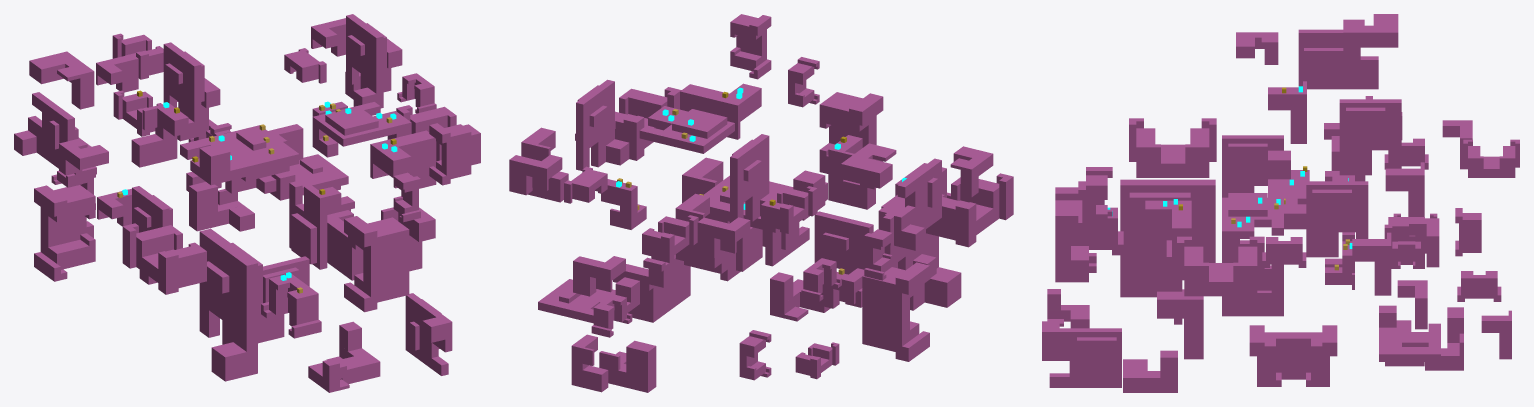
The model's file is Moving-Geometry-4.glb.
3 views of the same model, side by side, from view 1: azimuth 30°, elevation 25°; view 2: azimuth 150°, elevation 25°; view 3: azimuth 270°, elevation 25° (orthographic). The views are drawn at different scales.
Visible parts, largest first — view 1: Medium Shape.006, Hard Shape.012, Hard Shape.014, Medium Shape, Hard Shape.008, Medium Shape.001, Medium Shape.004, Medium Shape.005, Medium Shape.007, Medium Shape.003, Easy Shape.008, Medium Shape.008 (+28 smaller); view 2: Hard Shape.014, Hard Shape.008, Medium Shape.004, Medium Shape.008, Medium Shape.005, Hard Shape.012, Medium Shape.003, Medium Shape.009, Hard Shape.010, Easy Shape.008, Medium Shape.010, Hard Shape.017 (+30 smaller); view 3: Medium Shape.006, Medium Shape.007, Hard Shape.017, Medium Shape.005, Medium Shape.004, Hard Shape.010, Hard Shape.008, Medium Shape.008, Hard Shape.012, Medium Shape.002, Medium Shape.010, Medium Shape.003 (+28 smaller).
Boxes of the visible parts, x1,y1,x2,y2 form: Medium Shape.006: [199, 228, 262, 381]; Hard Shape.012: [344, 216, 409, 312]; Hard Shape.014: [34, 185, 95, 281]; Medium Shape: [180, 125, 299, 185]; Hard Shape.008: [122, 223, 206, 294]; Medium Shape.001: [289, 181, 341, 269]; Medium Shape.004: [346, 14, 386, 108]; Medium Shape.005: [163, 42, 204, 141]; Medium Shape.007: [405, 293, 452, 375]; Medium Shape.003: [312, 102, 411, 146]; Easy Shape.008: [370, 130, 436, 188]; Medium Shape.008: [14, 92, 78, 174]; Hard Shape.014: [862, 262, 929, 361]; Hard Shape.008: [926, 173, 1013, 247]; Medium Shape.004: [576, 79, 629, 170]; Medium Shape.008: [894, 158, 941, 250]; Medium Shape.005: [730, 134, 776, 222]; Hard Shape.012: [819, 92, 883, 173]; Medium Shape.003: [639, 106, 734, 153]; Medium Shape.009: [814, 211, 873, 307]; Hard Shape.010: [615, 87, 681, 160]; Easy Shape.008: [680, 83, 761, 139]; Medium Shape.010: [538, 277, 639, 323]; Hard Shape.017: [613, 256, 690, 322]; Medium Shape.006: [1120, 179, 1215, 297]; Medium Shape.007: [1042, 321, 1121, 387]; Hard Shape.017: [1249, 325, 1337, 386]; Medium Shape.005: [1339, 99, 1401, 175]; Medium Shape.004: [1306, 181, 1368, 257]; Hard Shape.010: [1177, 236, 1264, 296]; Hard Shape.008: [1129, 118, 1216, 177]; Medium Shape.008: [1298, 29, 1378, 89]; Hard Shape.012: [1055, 187, 1096, 282]; Medium Shape.002: [1222, 135, 1283, 197]; Medium Shape.010: [1379, 305, 1440, 366]; Medium Shape.003: [1222, 193, 1283, 253].
Bounding box in the file's own units: 204 × 138 × 219.
